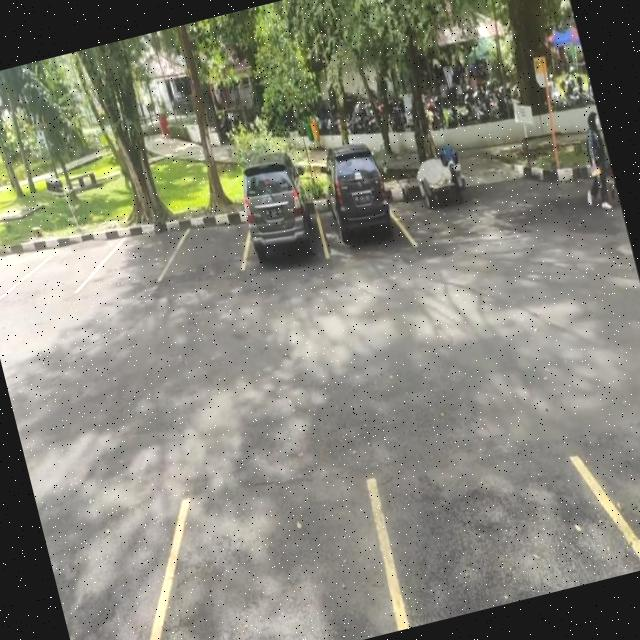empty: (356, 378, 640, 629), (100, 437, 405, 640), (162, 202, 254, 286), (94, 213, 180, 295), (18, 230, 108, 305)
occupied: (301, 136, 409, 260), (225, 156, 329, 278)
